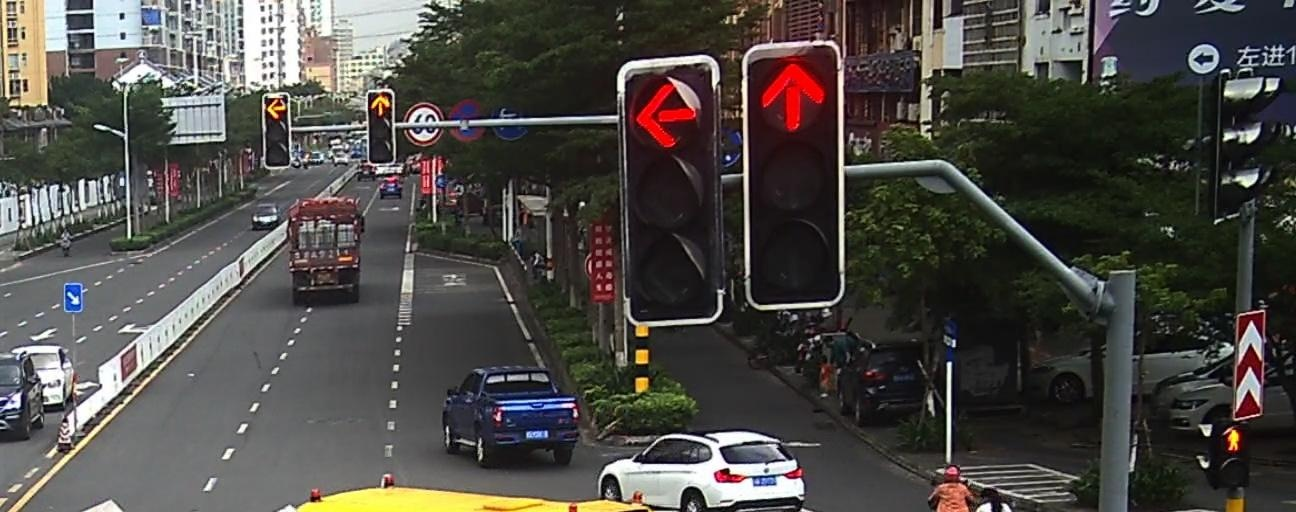redleft: (628, 79, 701, 152), (266, 99, 288, 121)
redpeople: (1218, 423, 1247, 452)
redstraight: (755, 57, 831, 133), (369, 91, 394, 116)
